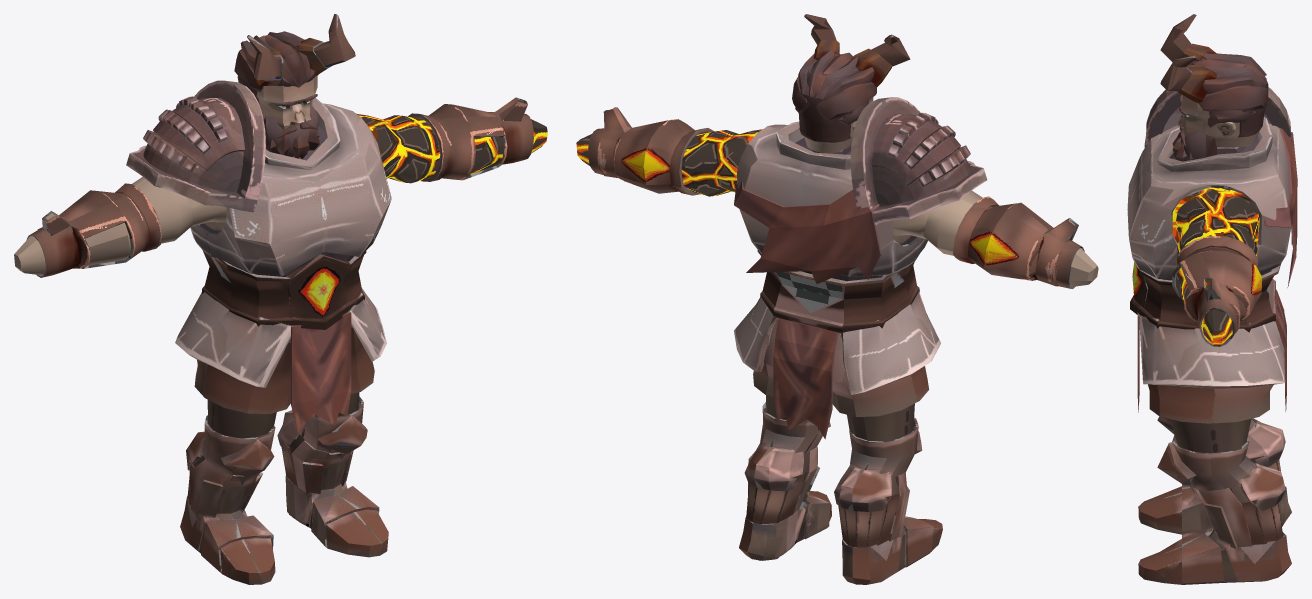
File: upload_1788387551_bd61d3_DARION1.glb
3 renders of one model, left to right at view 1: azimuth 30°, elevation 25°; view 2: azimuth 150°, elevation 25°; view 3: azimuth 270°, elevation 25°, orthographic. The views are drawn at different scales.
Visible parts, largest first — view 1: Cube.005, Cube.001, Cube.004, Cube.009, Cube.006, Cube.010, Cube.007, Cube.003, Cube.012, Cube.002, Cube.008, Cube.011 (+7 smaller); view 2: Cube.012, Cube.004, Cube.001, Cube.005, Cube.003, Cube.007, Cube.006, Cube.002, Cube.009, Cube.011, Cube.013, Cube.008 (+8 smaller); view 3: Cube.005, Cube.001, Cube.007, Cube.002, Cube.010, Cube.009, Cube.008, Cube.006, Cube.013, Cube.011, Cube.012, Cube.004 (+13 smaller).
Part boxes in pixels (box(x1,y1,x2,y2)): Cube.005: box(190, 97, 391, 275); Cube.001: box(14, 100, 547, 553); Cube.004: box(126, 80, 265, 212); Cube.009: box(190, 396, 367, 518); Cube.006: box(202, 250, 366, 329); Cube.010: box(201, 486, 388, 584); Cube.007: box(175, 288, 386, 387); Cube.003: box(26, 183, 162, 277); Cube.012: box(291, 312, 351, 434); Cube.002: box(408, 97, 533, 181); Cube.008: box(194, 325, 374, 413); Cube.011: box(180, 475, 347, 550); Cube.012: box(734, 181, 881, 439); Cube.004: box(850, 97, 987, 224); Cube.001: box(576, 129, 1098, 584); Cube.005: box(737, 121, 927, 276); Cube.003: box(953, 196, 1084, 288); Cube.007: box(734, 292, 940, 394); Cube.006: box(757, 250, 919, 333); Cube.002: box(588, 107, 714, 195); Cube.009: box(748, 402, 922, 541); Cube.011: box(739, 506, 902, 584); Cube.013: box(744, 441, 891, 511); Cube.008: box(753, 318, 929, 416); Cube.005: box(1127, 117, 1290, 279); Cube.001: box(1162, 136, 1268, 582); Cube.007: box(1139, 289, 1285, 388); Cube.002: box(1172, 236, 1261, 346); Cube.010: box(1138, 484, 1224, 584); Cube.009: box(1157, 416, 1255, 548); Cube.008: box(1148, 332, 1279, 423); Cube.006: box(1130, 262, 1281, 332); Cube.013: box(1240, 418, 1285, 511); Cube.011: box(1208, 486, 1291, 581); Cube.012: box(1137, 123, 1297, 412); Cube.004: box(1144, 87, 1291, 147).
Size of the model in its own units: 2.95 by 2.81 by 0.8419.
6 materials, 6 textured.
